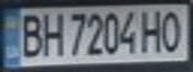0: (103, 8, 121, 55)
2: (84, 9, 106, 56)
4: (118, 8, 142, 55)
7: (66, 9, 87, 56)
B: (15, 10, 45, 58)
H: (39, 9, 66, 57), (139, 7, 166, 54)
O: (160, 7, 187, 53)
